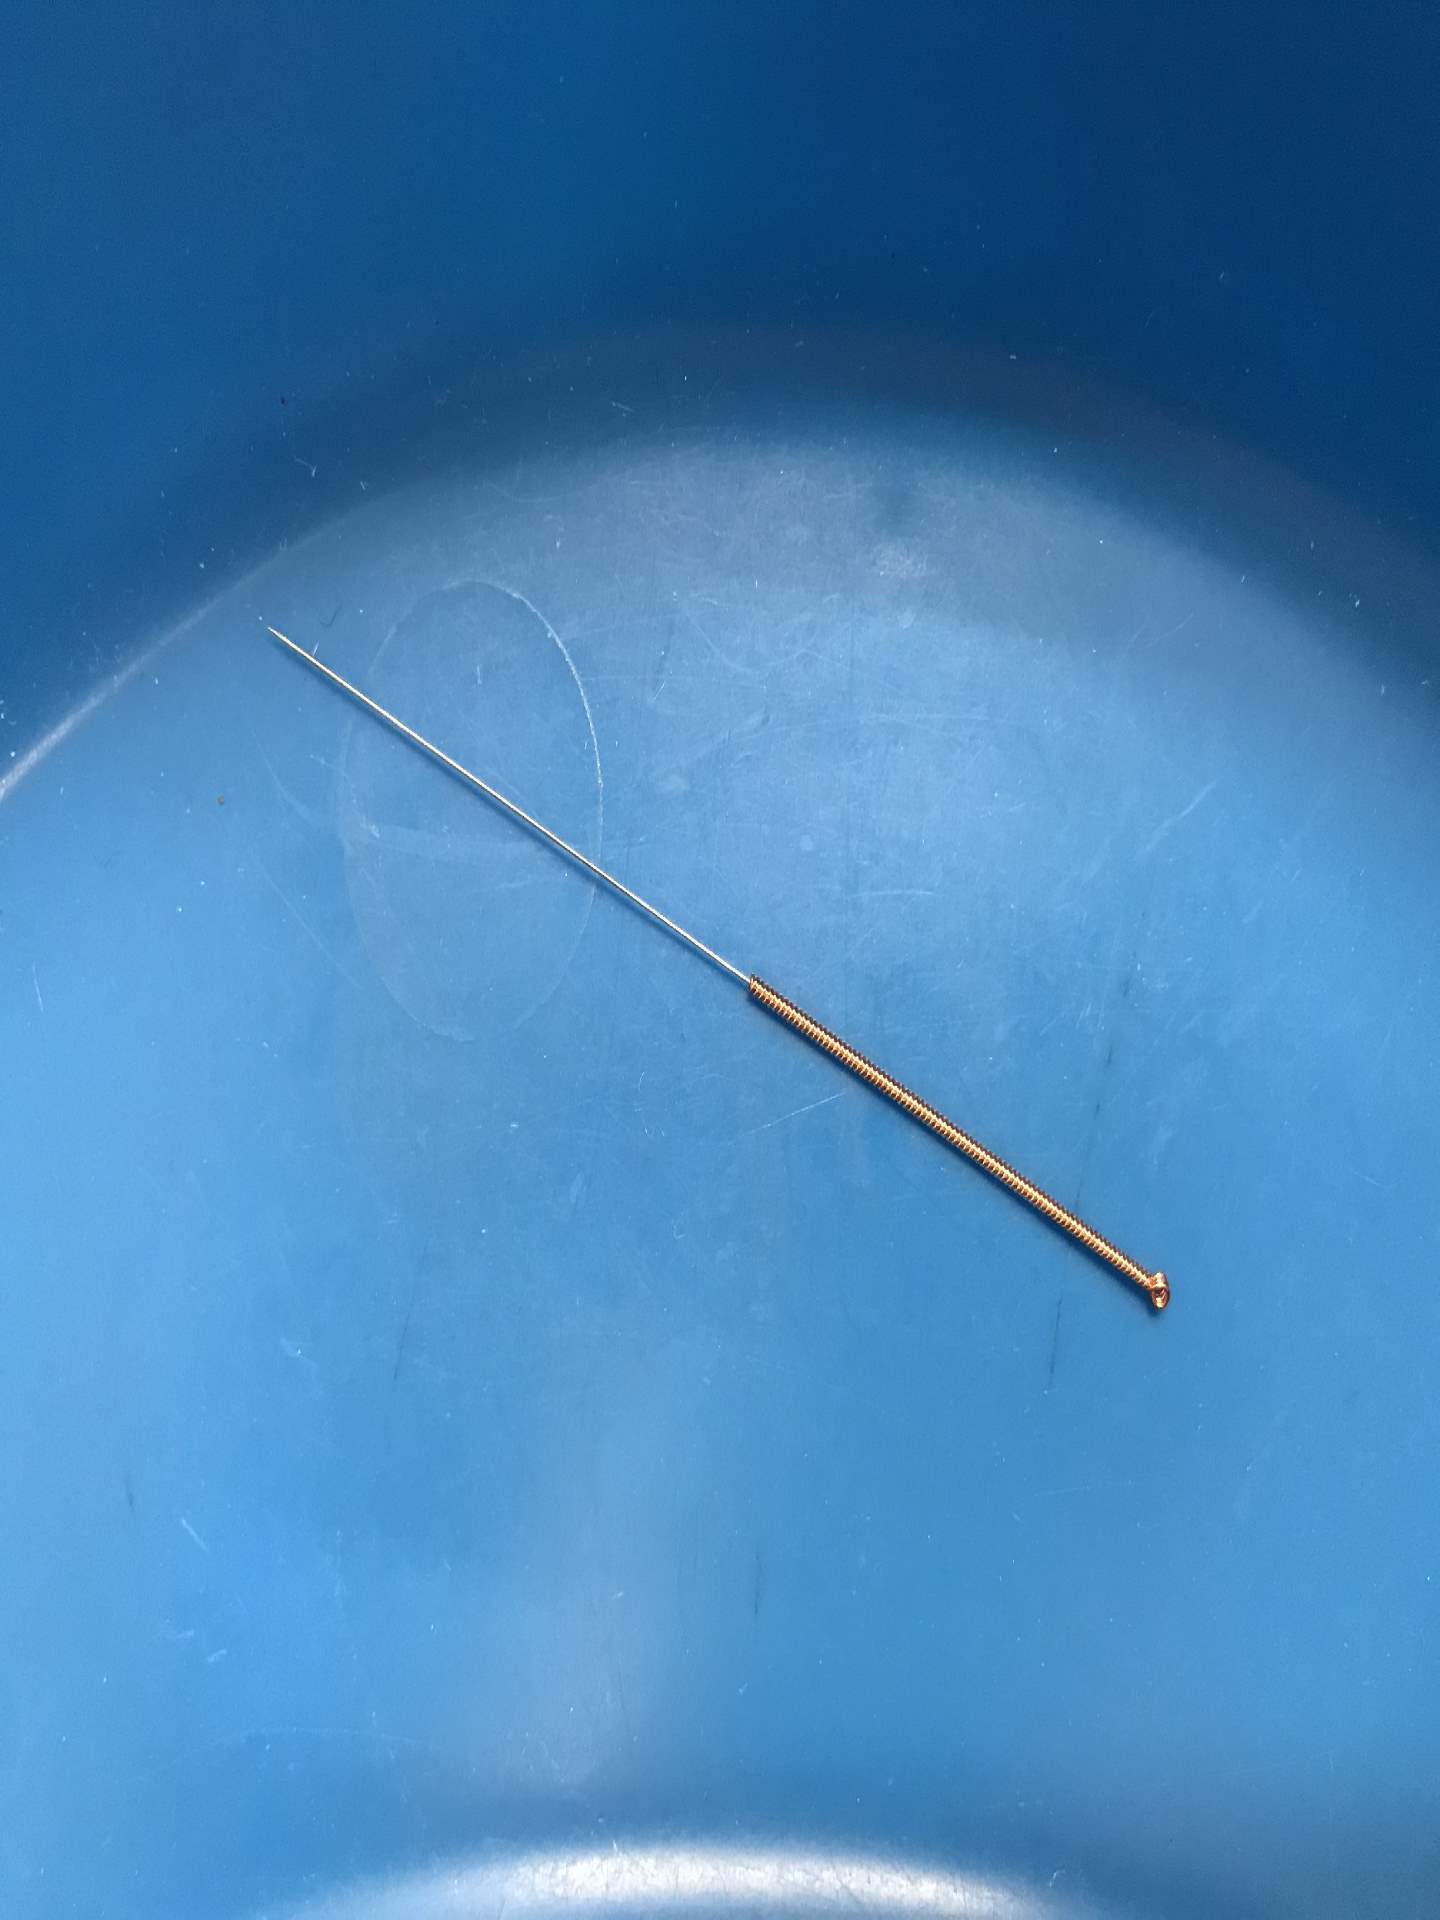needle: (1119, 1253, 1186, 1324)
